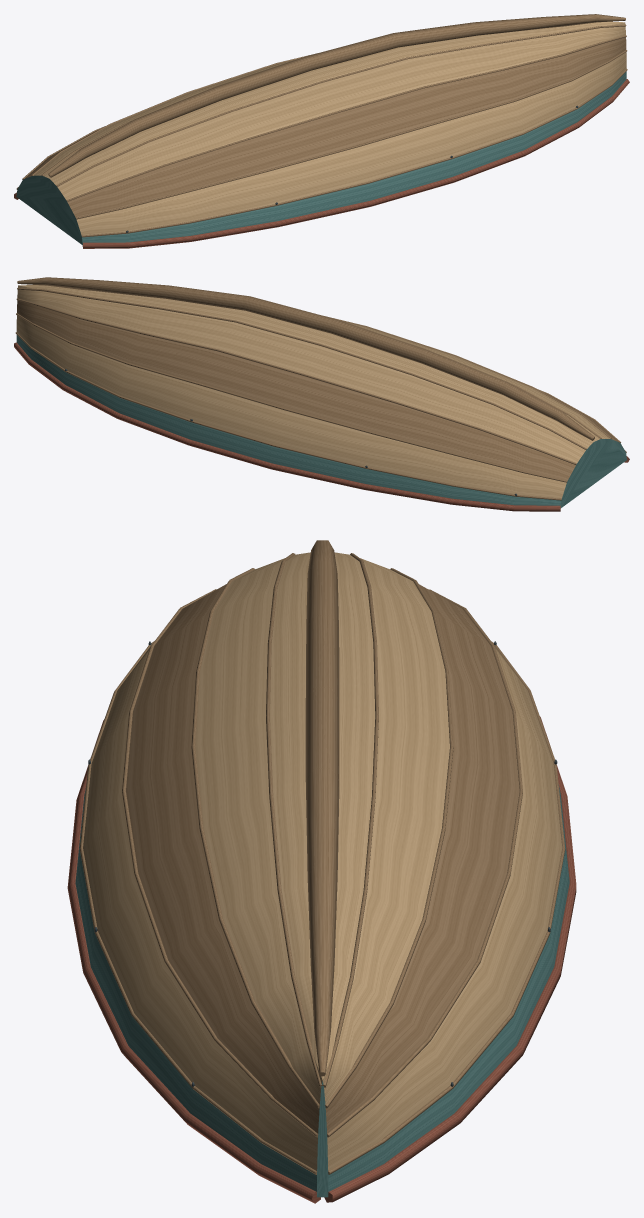
The model's file is SM_OverturnedSkiff.fbx.
The picture shows the model from 3 angles, top to bottom: view 1: azimuth 30°, elevation 25°; view 2: azimuth 150°, elevation 25°; view 3: azimuth 270°, elevation 25°; orthographic projection. The views are drawn at different scales.
Visible parts, largest first — view 1: SM_OverturnedSkiff; view 2: SM_OverturnedSkiff; view 3: SM_OverturnedSkiff.
Part boxes in pixels (x1,y1,x2,y2): SM_OverturnedSkiff: (14,14,629,248); SM_OverturnedSkiff: (14,277,629,511); SM_OverturnedSkiff: (67,540,576,1203).
Bounding box in the file's own units: 302 × 115 × 52.36.
Materials: 1 (1 with a texture image).
